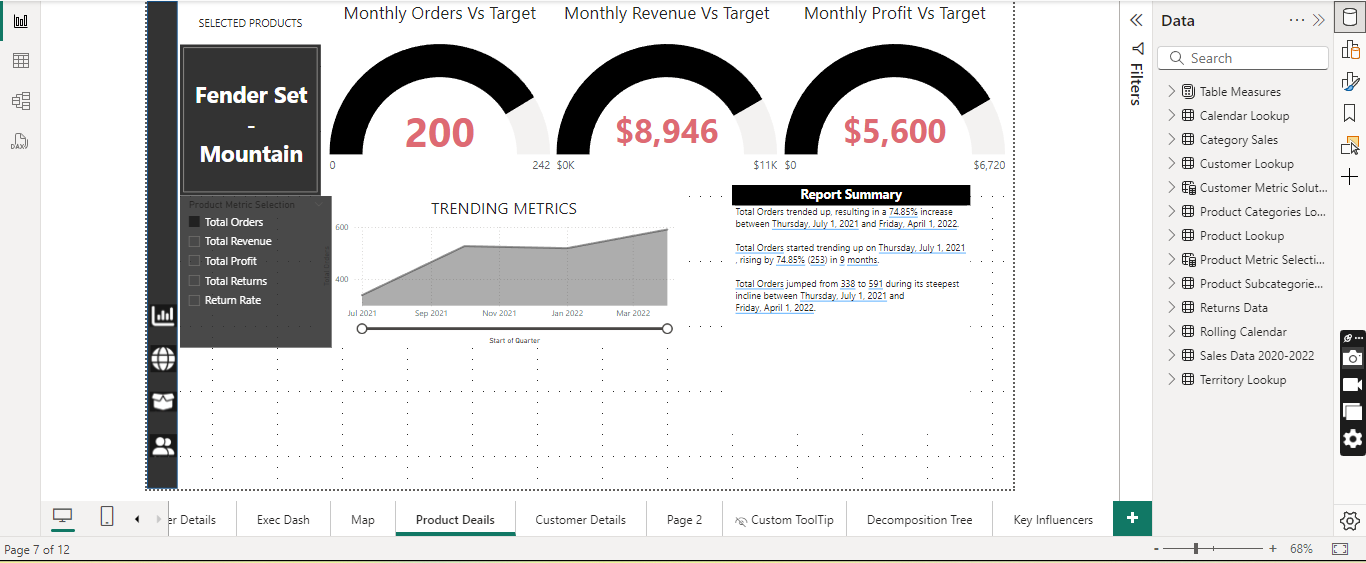

The page's visual inventory and layout, read from the dashboard file:
{"tool":"powerbi","page":{"name":"Product Deails","canvas":[1280,720],"ordinal":6},"visuals":[{"type":"shape","title":"Left Nav Bar","box":[0,0,45,720],"z":0},{"type":"gauge","title":"Monthly Orders Vs Target","fields":{"Y":["Table Measures.Total Orders"],"MaxValue":["Table Measures.Order Target"]},"box":[264,0,336,288],"z":1000},{"type":"actionButton","box":[0,432,48,64],"z":2000},{"type":"gauge","title":"Monthly Revenue Vs Target","fields":{"Y":["Table Measures.Total Revenue"],"MaxValue":["Table Measures.Target Revenue"]},"box":[600,0,336,288],"z":3000},{"type":"actionButton","box":[0,496,48,64],"z":4000},{"type":"gauge","title":"Monthly Profit Vs Target","fields":{"Y":["Table Measures.Total Profit"],"MaxValue":["Table Measures.Profit Target"]},"box":[936,0,336,288],"z":5000},{"type":"actionButton","box":[0,560,48,64],"z":6000},{"type":"actionButton","box":[0,624,48,64],"z":7000},{"type":"areaChart","title":"TRENDING METRICS","fields":{"Y":["Table Measures.Total Orders"],"Category":["Calendar Lookup.Start of Year","Calendar Lookup.Start of Quarter","Calendar Lookup.Start of Month","Calendar Lookup.Start of Week"]},"box":[256,288,544,224],"z":8000},{"type":"cardVisual","fields":{"Data":["Min(Product Lookup.ProductName)"]},"box":[48,64,208,224],"z":9000},{"type":"textbox","box":[48,16,208,48],"z":10000},{"type":"slicer","fields":{"Values":["Product Metric Selection.Product Metric Selection"]},"box":[48,288,224,224],"z":11000},{"type":"textbox","title":"Report Summary","box":[864,272,352,368],"z":12000}]}

Visuals, with their boxes on the page's 1280x720 design canvas (x1, y1, x2, y2). These are canvas units, not pixel positions in the 1366x563 screenshot, which may show the page scaled, cropped or inside an application window:
"Left Nav Bar" shape: [x1=0, y1=0, x2=45, y2=720]
"Monthly Orders Vs Target" gauge: [x1=264, y1=0, x2=600, y2=288]
actionButton: [x1=0, y1=432, x2=48, y2=496]
"Monthly Revenue Vs Target" gauge: [x1=600, y1=0, x2=936, y2=288]
actionButton: [x1=0, y1=496, x2=48, y2=560]
"Monthly Profit Vs Target" gauge: [x1=936, y1=0, x2=1272, y2=288]
actionButton: [x1=0, y1=560, x2=48, y2=624]
actionButton: [x1=0, y1=624, x2=48, y2=688]
"TRENDING METRICS" areaChart: [x1=256, y1=288, x2=800, y2=512]
cardVisual - Min(Product Lookup.ProductName): [x1=48, y1=64, x2=256, y2=288]
textbox: [x1=48, y1=16, x2=256, y2=64]
slicer - Product Metric Selection.Product Metric Selection: [x1=48, y1=288, x2=272, y2=512]
"Report Summary" textbox: [x1=864, y1=272, x2=1216, y2=640]
